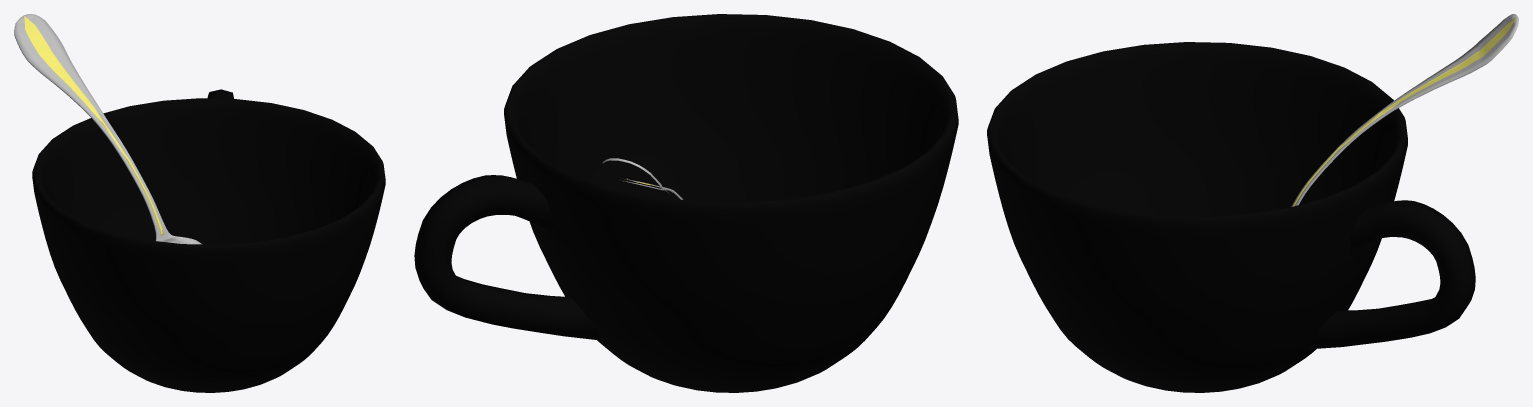
Rendered from kru.glb.
The picture shows the model from 3 angles, left to right: view 1: azimuth 30°, elevation 25°; view 2: azimuth 150°, elevation 25°; view 3: azimuth 270°, elevation 25°; orthographic projection. The views are drawn at different scales.
Parts seen in each view (by area): view 1: Кружка, ложка001; view 2: Кружка; view 3: Кружка, ложка001.
Boxes of the visible parts, left/top/right/bottom form: Кружка: left=32, top=89, right=385, bottom=392; ложка001: left=14, top=14, right=201, bottom=244; Кружка: left=414, top=14, right=958, bottom=392; Кружка: left=987, top=42, right=1475, bottom=392; ложка001: left=1291, top=14, right=1518, bottom=206.
Size of the model in its own units: 1.96 by 1.64 by 2.48.
